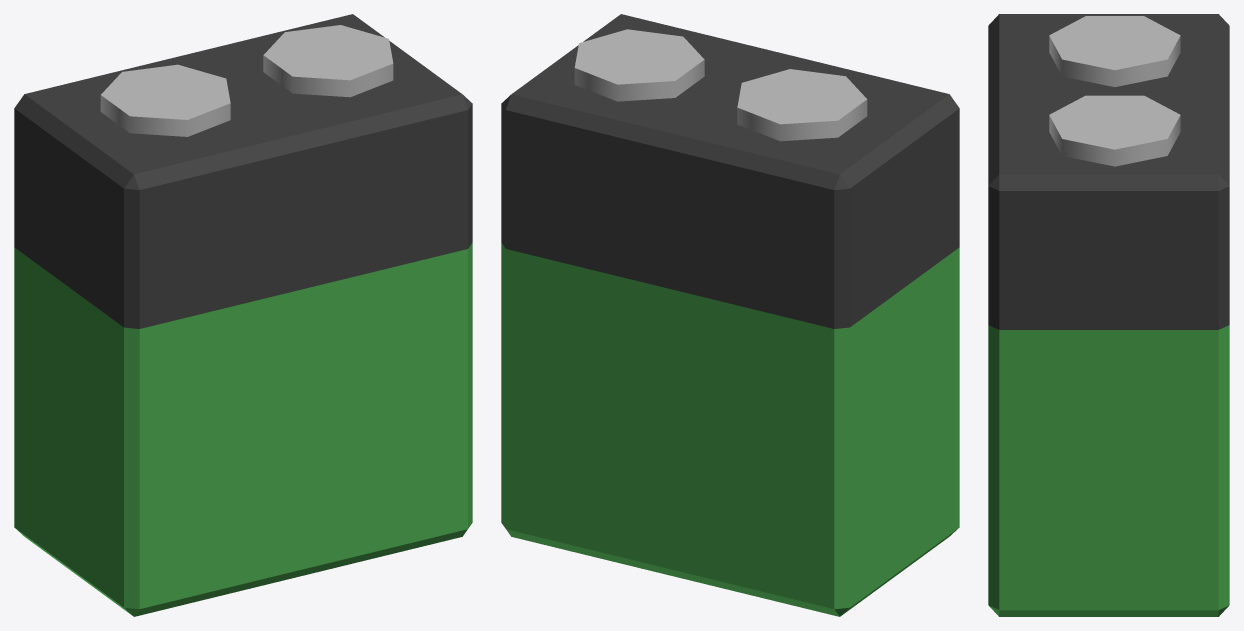
Rendered from Battery.FBX.
3 views of the same model, side by side, from view 1: azimuth 30°, elevation 25°; view 2: azimuth 150°, elevation 25°; view 3: azimuth 270°, elevation 25° (orthographic).
Visible parts, largest first — view 1: Battery; view 2: Battery; view 3: Battery.
Boxes of the visible parts, x1,y1,x2,y2 form: Battery: [14, 14, 472, 616]; Battery: [501, 14, 959, 616]; Battery: [988, 14, 1229, 616].
Size of the model in its own units: 2.73 by 3.44 by 1.64.
